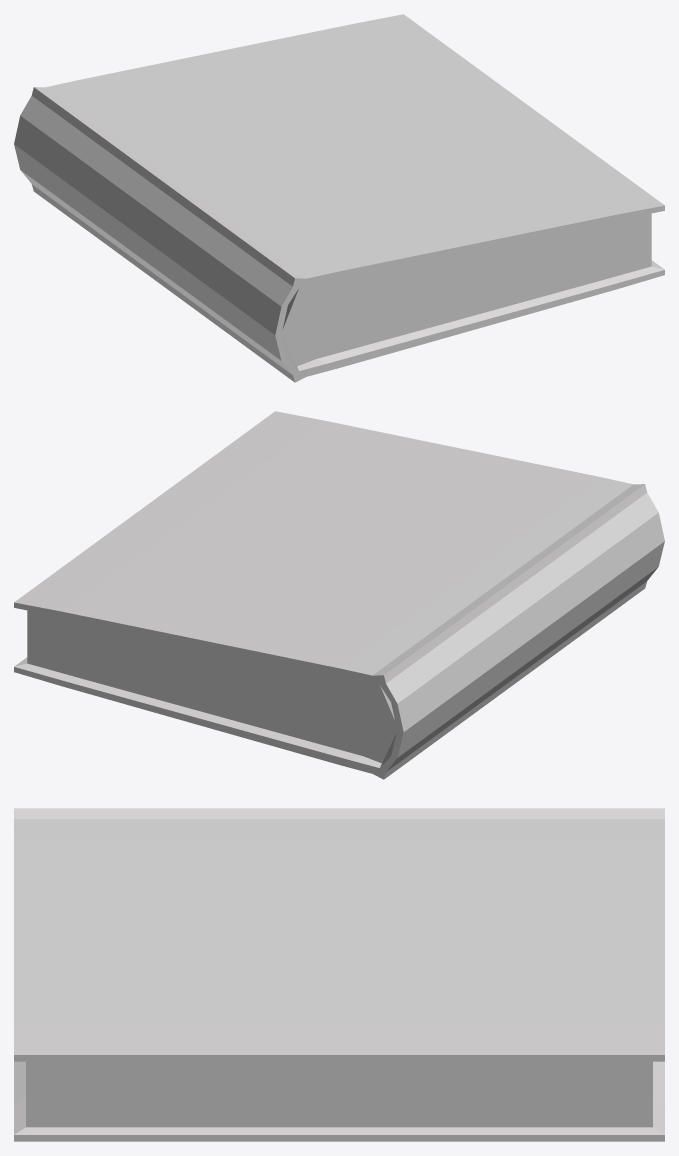
The model's file is Book_Ver2.fbx.
3 views of the same model, one above another, from view 1: azimuth 30°, elevation 25°; view 2: azimuth 150°, elevation 25°; view 3: azimuth 270°, elevation 25° (orthographic). The views are drawn at different scales.
Visible parts, largest first — view 1: Book_low; view 2: Book_low; view 3: Book_low.
Boxes of the visible parts, bbox=[...] form: Book_low: bbox=[14, 14, 664, 382]; Book_low: bbox=[14, 411, 664, 779]; Book_low: bbox=[14, 808, 664, 1141].
Size of the model in its own units: 972 by 249 by 1129.
1 material, 1 textured.
